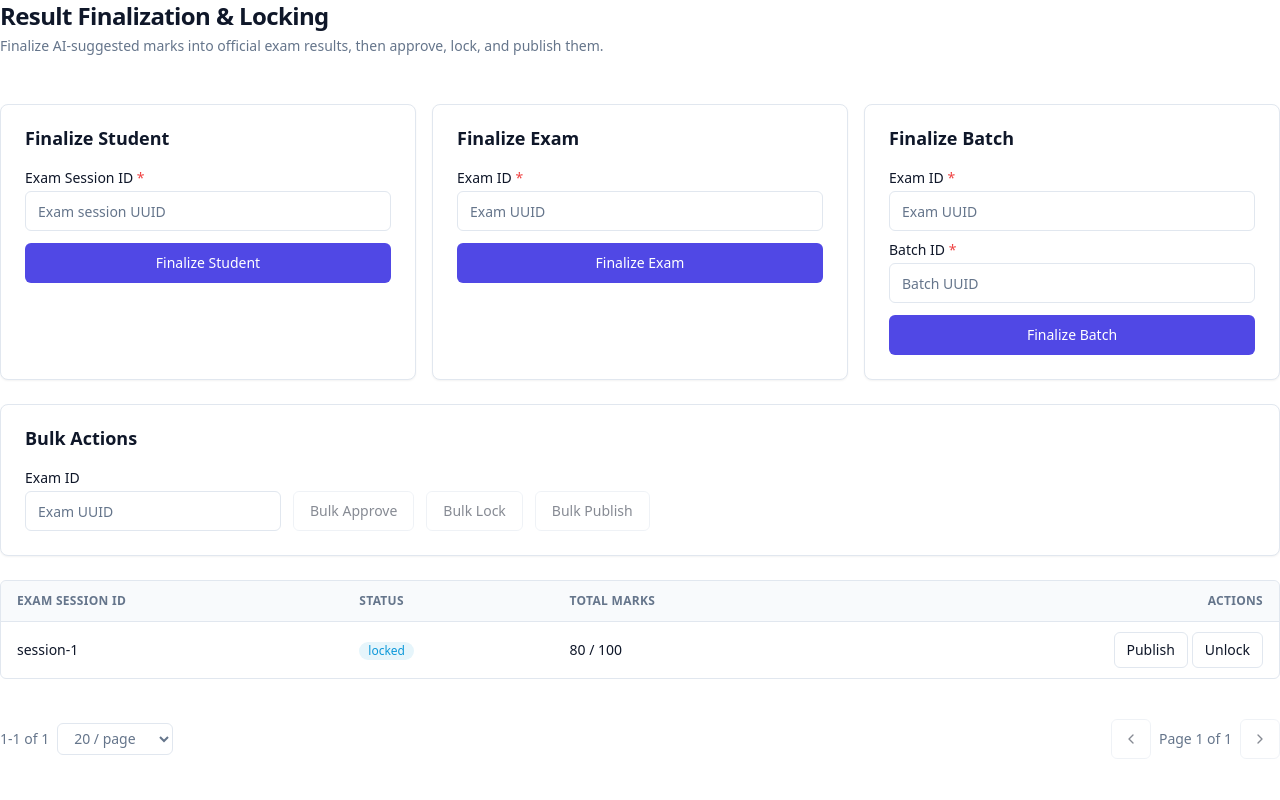
Test case: ResultFinalizationPage › shows Unlock for locked and published statuses with exam_results:unlock permission, and confirms before unlocking
Click the button "Unlock" at (1227, 650), box [1192,632,1263,668]
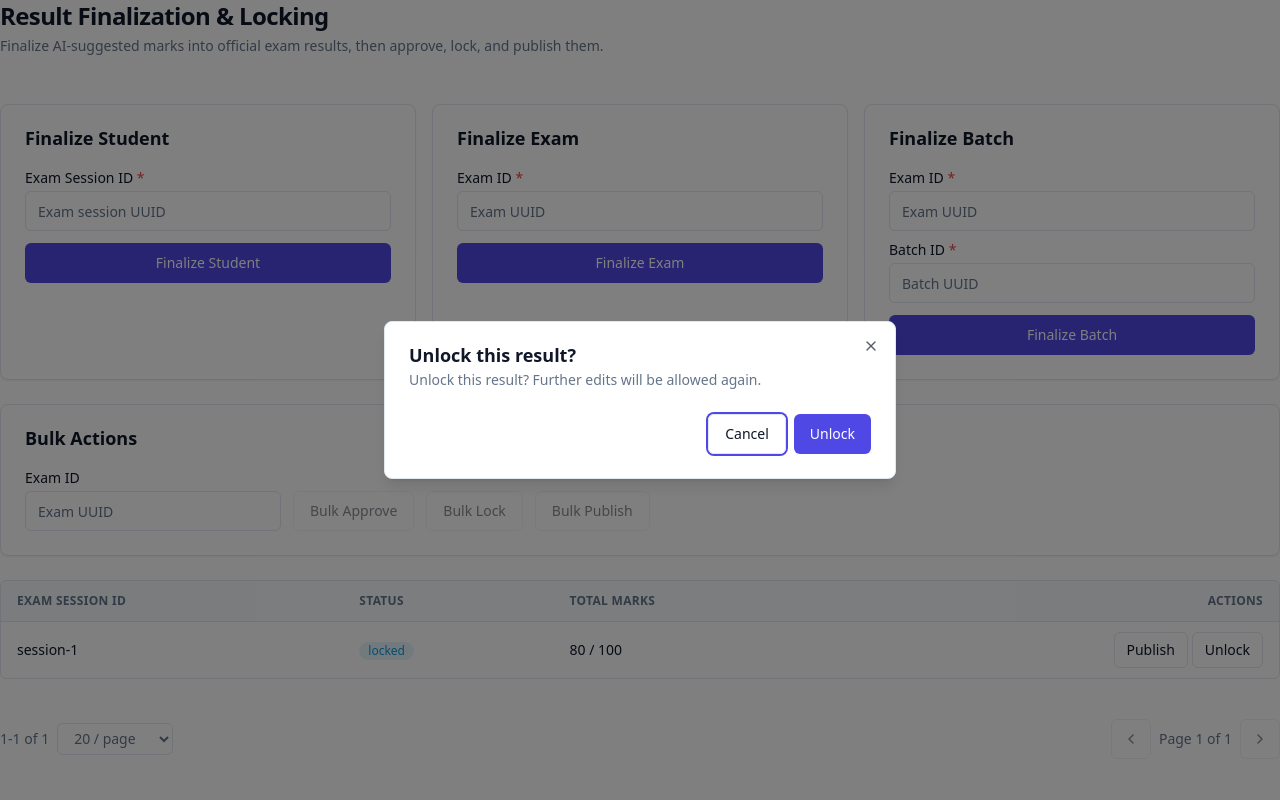
Now the text "Unlock this result? Further edits will be allowed again." is shown, box [409,370,761,389]
Click the button "Unlock" at (832, 434), box [794,414,871,454]
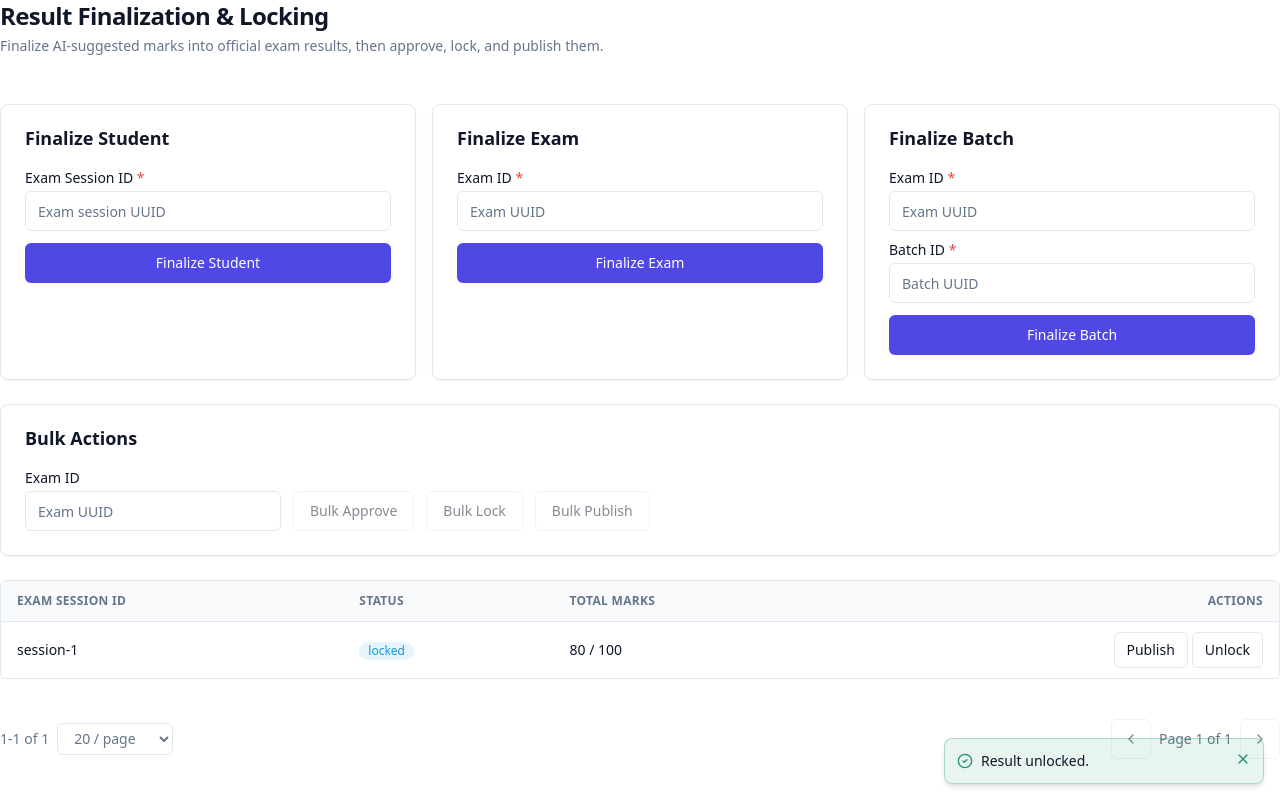
Now the text "Result unlocked." is shown, box [981,751,1089,770]
